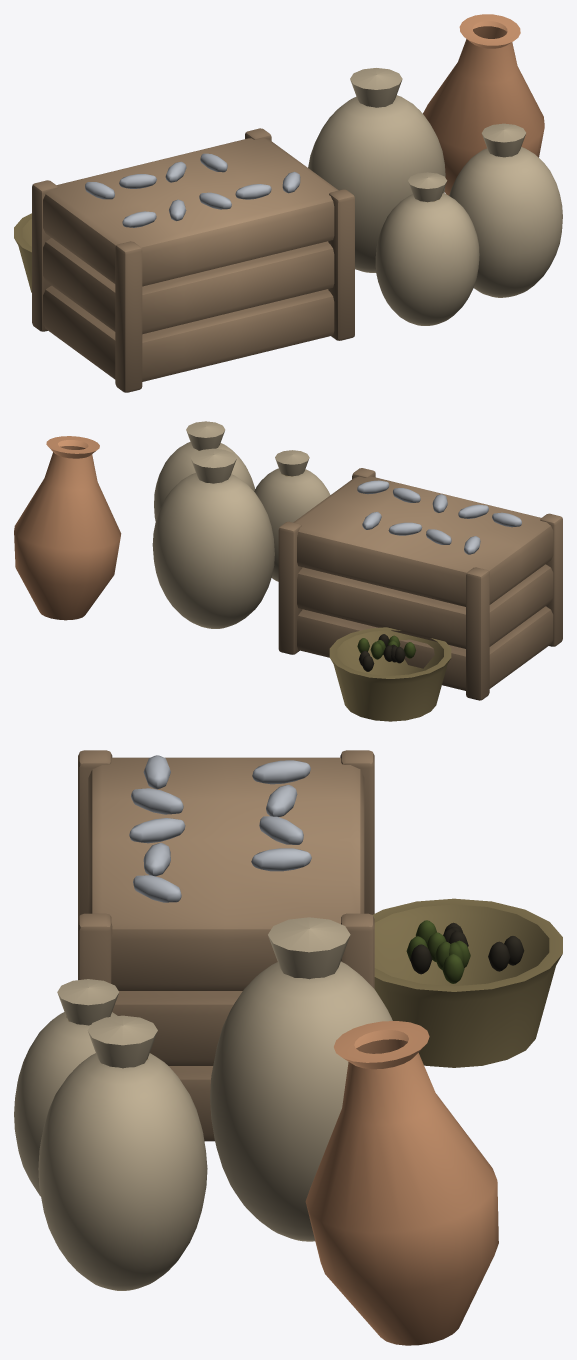
The model's file is obj_kit_goods.glb.
The picture shows the model from 3 angles, top to bottom: view 1: azimuth 30°, elevation 25°; view 2: azimuth 150°, elevation 25°; view 3: azimuth 270°, elevation 25°; orthographic projection. The views are drawn at different scales.
Parts seen in each view (by area): view 1: Cube.002, Cube, Cube.001, Sphere.009, Sphere.010, jar, Sphere.011, Cube.003, Cube.005, Cube.004, neck, neck.001 (+2 smaller); view 2: Cube.002, Sphere.009, jar, Cube.001, basket, Cube, Cube.004, Sphere.011, Cube.006, Sphere.010, Cube.003, neck (+2 smaller); view 3: Cube.002, jar, Sphere.010, Sphere.009, basket, Sphere.011, Cube.001, neck, neck.001, Cube.005, Cube.003, neck.002 (+11 smaller).
Boxes of the visible parts, left/top/right/bottom form: Cube.002: left=43, top=138, right=338, bottom=286; Cube: left=43, top=285, right=334, bottom=381; Cube.001: left=43, top=238, right=334, bottom=334; Sphere.009: left=308, top=95, right=445, bottom=272; Sphere.010: left=449, top=147, right=562, bottom=297; jar: left=423, top=14, right=544, bottom=195; Sphere.011: left=375, top=193, right=479, bottom=325; Cube.003: left=115, top=241, right=142, bottom=392; Cube.005: left=328, top=189, right=354, bottom=340; Cube.004: left=32, top=180, right=58, bottom=331; neck: left=350, top=68, right=402, bottom=107; neck.001: left=481, top=123, right=526, bottom=157; Cube.002: left=293, top=476, right=553, bottom=606; Sphere.009: left=152, top=473, right=274, bottom=628; jar: left=14, top=436, right=121, bottom=620; Cube.001: left=297, top=564, right=553, bottom=648; basket: left=329, top=627, right=451, bottom=721; Cube: left=297, top=606, right=553, bottom=690; Cube.004: left=466, top=567, right=489, bottom=700; Sphere.011: left=254, top=468, right=330, bottom=581; Cube.006: left=278, top=521, right=302, bottom=654; Sphere.010: left=154, top=442, right=255, bottom=520; Cube.003: left=540, top=513, right=562, bottom=646; neck: left=190, top=448, right=236, bottom=483; Cube.002: left=88, top=757, right=364, bottom=990; jar: left=305, top=1021, right=498, bottom=1345; Sphere.010: left=38, top=1053, right=207, bottom=1290; Sphere.009: left=210, top=961, right=392, bottom=1241; basket: left=373, top=898, right=562, bottom=1067; Sphere.011: left=14, top=1012, right=117, bottom=1196; Cube.001: left=112, top=991, right=242, bottom=1065; neck: left=268, top=917, right=350, bottom=979; neck.001: left=87, top=1015, right=157, bottom=1068; Cube.005: left=78, top=913, right=112, bottom=983; Cube.003: left=78, top=750, right=112, bottom=918; neck.002: left=57, top=979, right=119, bottom=1025.
Size of the model in its own units: 1.35 by 0.4876 by 0.7952.
